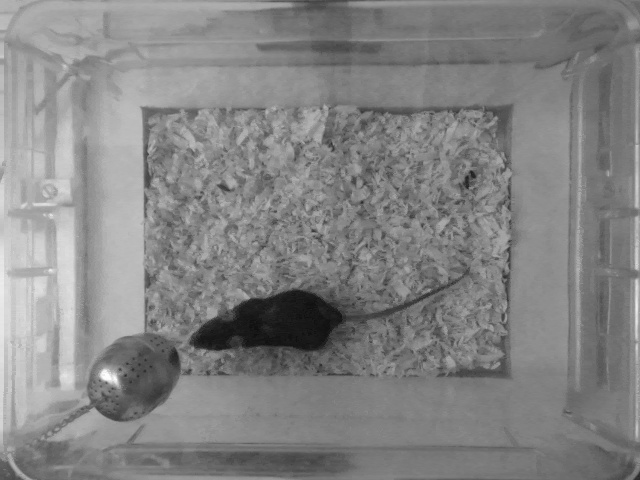mice: (183, 259, 469, 353)
